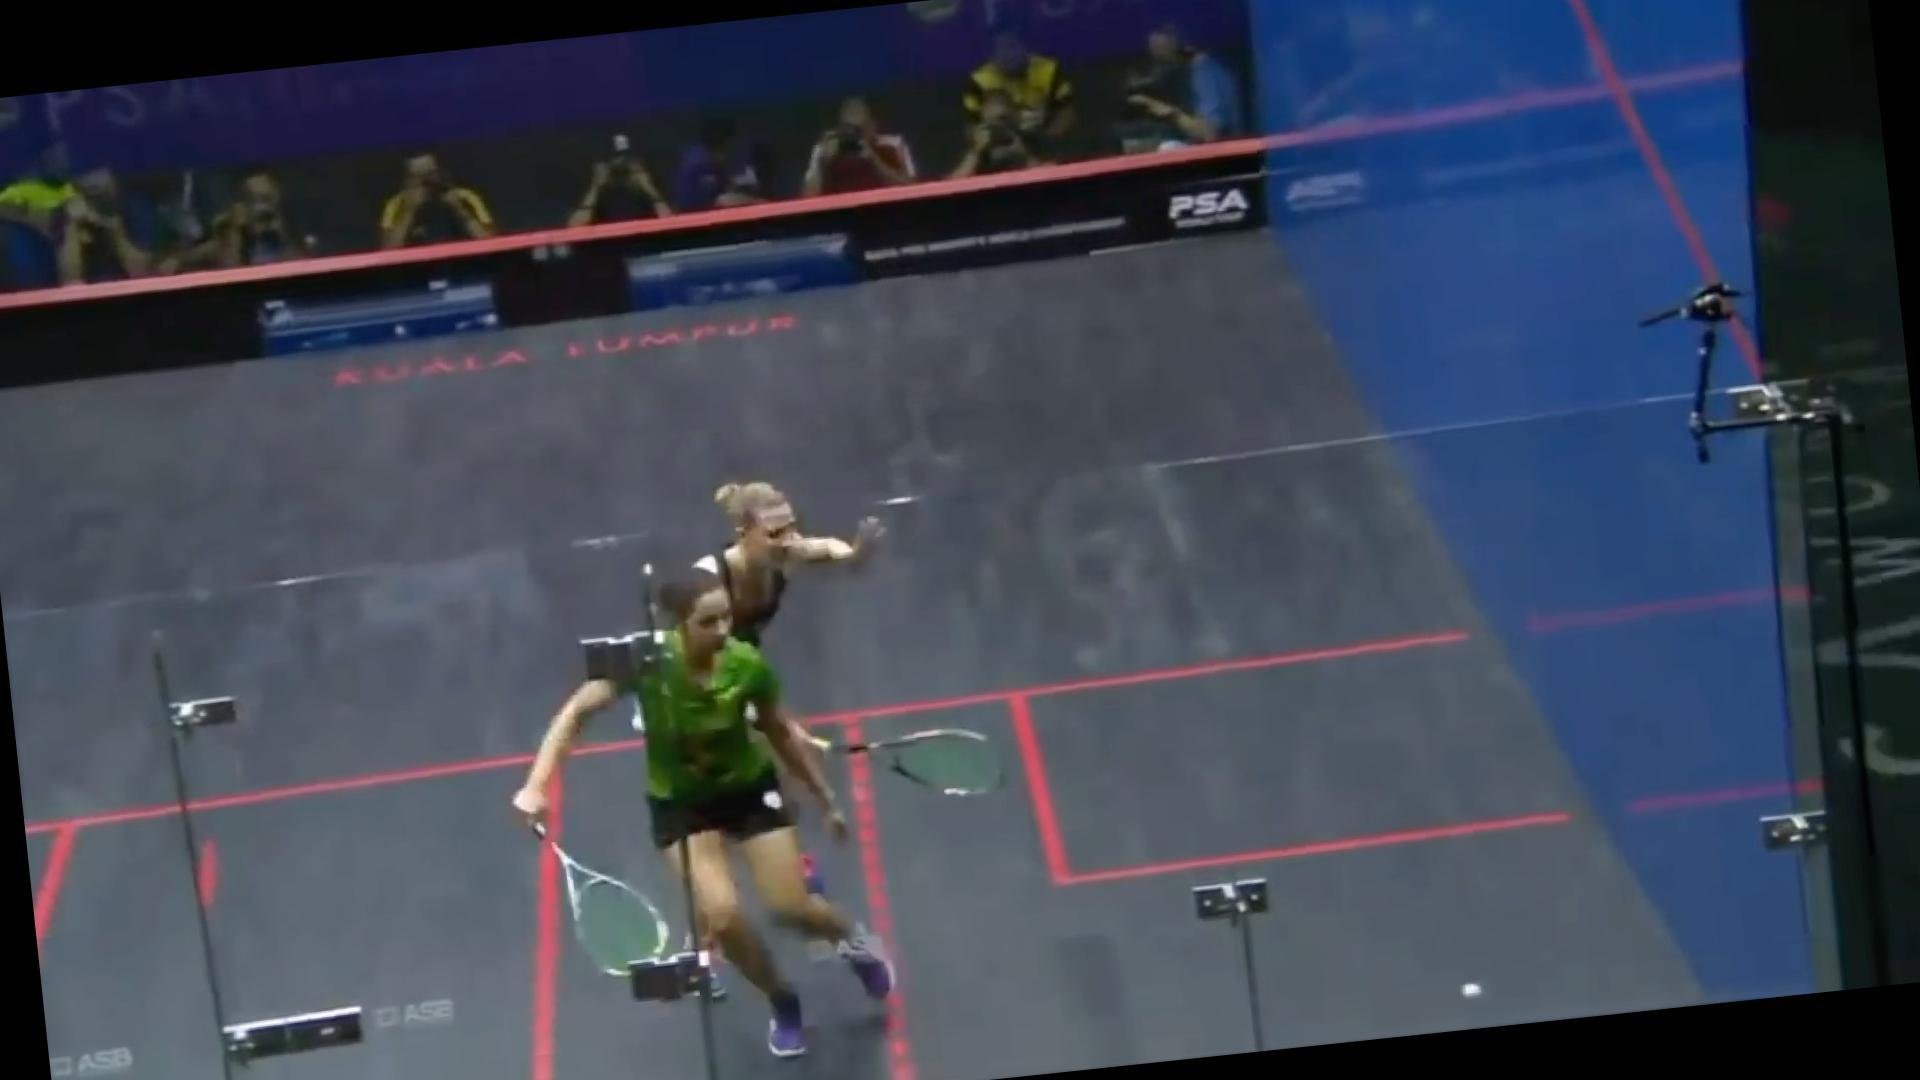Squash-Ball: (1451, 971, 1497, 1013)
